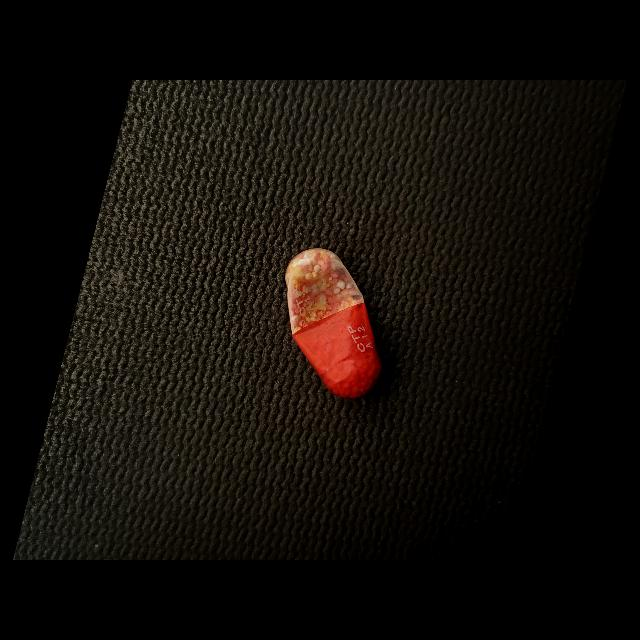Defective Capsule: (285, 248, 381, 398)
